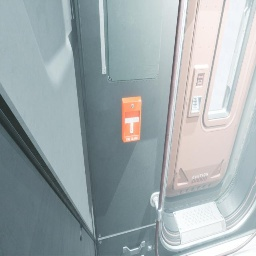FireAlarm ,: (122, 96, 142, 142)
